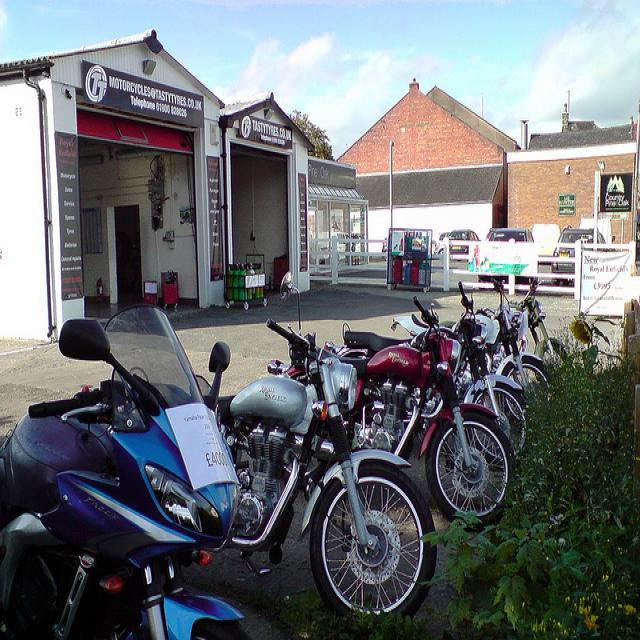motor: (0, 306, 261, 633), (220, 320, 440, 625), (266, 300, 511, 525), (371, 280, 529, 456), (442, 278, 556, 412), (511, 275, 569, 377)
